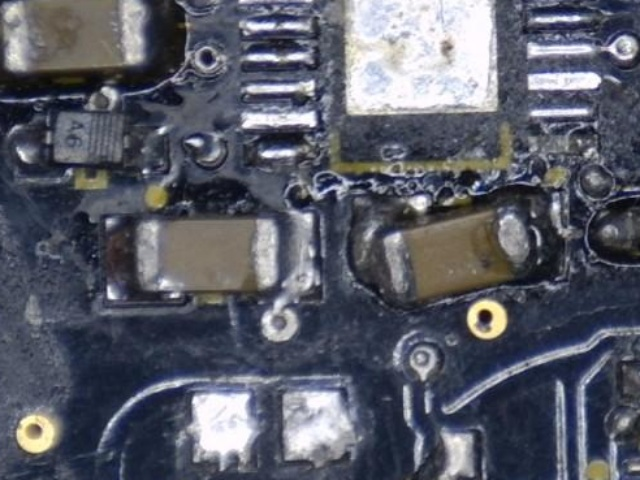pcb_defect: (348, 189, 562, 310), (252, 208, 322, 342), (393, 424, 488, 480)
